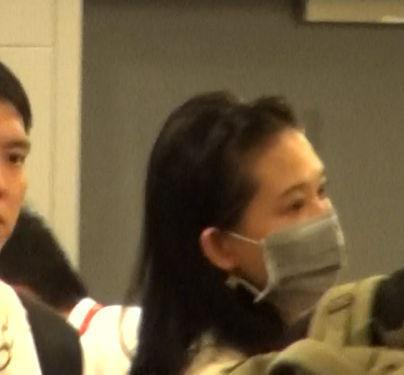OK: (202, 166, 344, 308)
